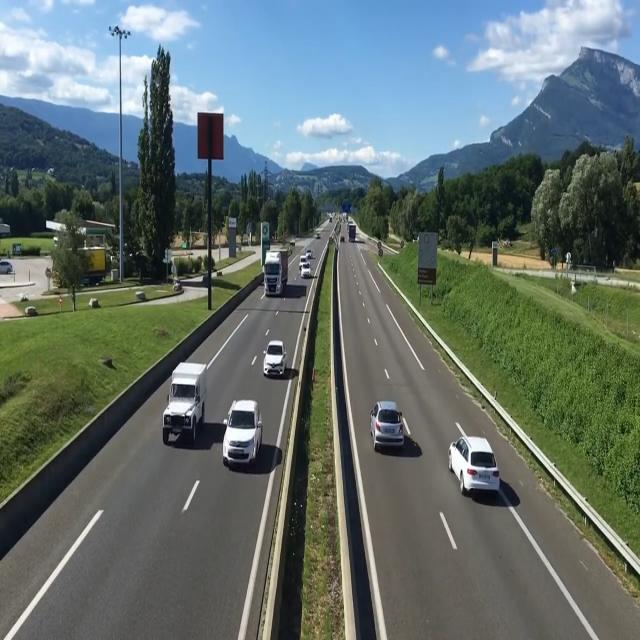car: (452, 429, 505, 508), (162, 360, 208, 451), (223, 397, 262, 472), (369, 396, 406, 450), (262, 334, 290, 384), (300, 262, 312, 282)
truck: (264, 238, 290, 297), (346, 221, 359, 245)
